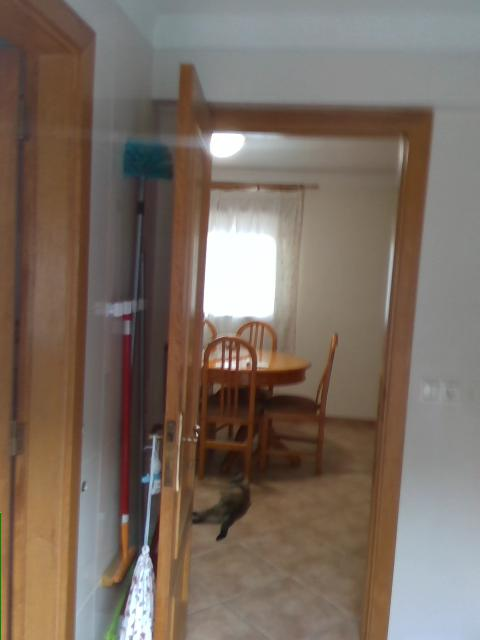open_door: (163, 98, 434, 639)
